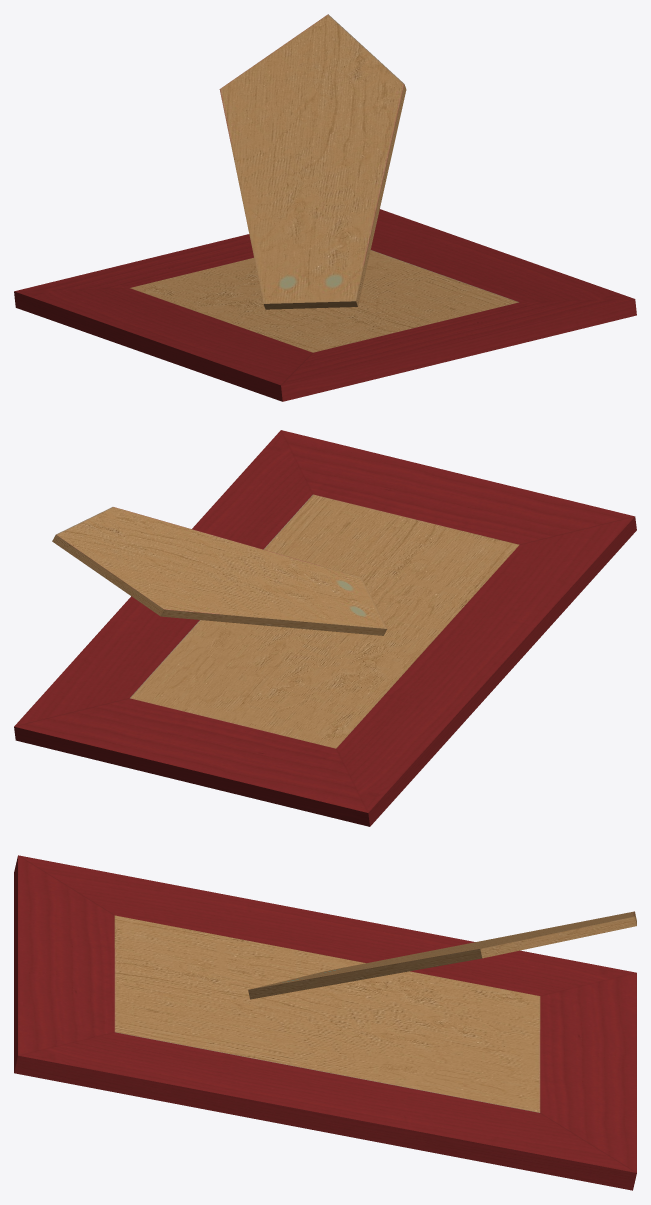
The model's file is PhotoframeOnTable2.obj.
The picture shows the model from 3 angles, top to bottom: view 1: azimuth 30°, elevation 25°; view 2: azimuth 150°, elevation 25°; view 3: azimuth 270°, elevation 25°; orthographic projection. The views are drawn at different scales.
Parts seen in each view (by area): view 1: PhotoframeOnTable2; view 2: PhotoframeOnTable2; view 3: PhotoframeOnTable2.
Part boxes in pixels (bbox=[...]): PhotoframeOnTable2: bbox=[14, 14, 636, 401]; PhotoframeOnTable2: bbox=[14, 430, 636, 826]; PhotoframeOnTable2: bbox=[14, 855, 636, 1190].
Bounding box in the file's own units: 6 × 3.5 × 7.88.
1 material, 1 textured.
